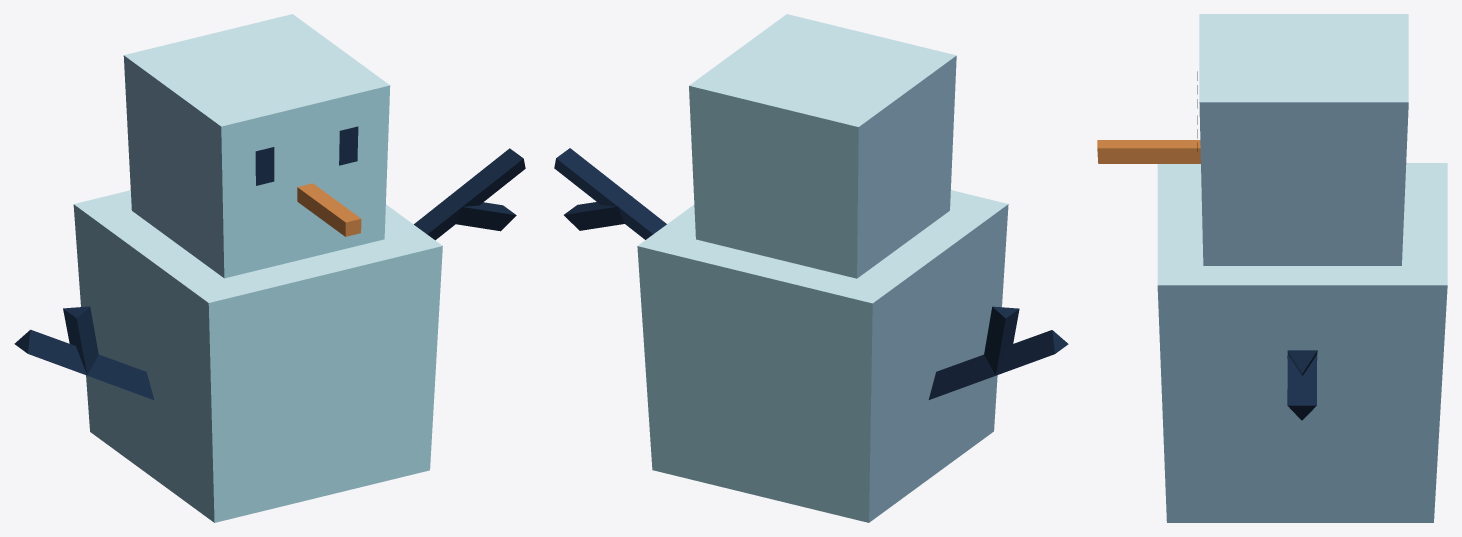
The model's file is snowman.fbx.
3 renders of one model, left to right at view 1: azimuth 30°, elevation 25°; view 2: azimuth 150°, elevation 25°; view 3: azimuth 270°, elevation 25°, orthographic. The views are drawn at different scales.
Visible parts, largest first — view 1: body, head, Larm, Rarm, Lfinger (×2), nose, Reye, Leye; view 2: body, head, Larm, Rarm, Lfinger (×2); view 3: body, head, nose, Lfinger, Larm.
Boxes of the visible parts, <box> form: body: <box>73,190,442,522</box>; head: <box>123,14,390,278</box>; Larm: <box>414,148,525,240</box>; Rarm: <box>14,329,154,399</box>; Lfinger (×2): <box>63,196,516,374</box>; nose: <box>297,183,361,236</box>; Reye: <box>255,147,274,185</box>; Leye: <box>339,126,358,165</box>; body: <box>637,190,1008,522</box>; head: <box>689,14,956,278</box>; Larm: <box>554,148,666,239</box>; Rarm: <box>928,330,1068,399</box>; Lfinger (×2): <box>564,196,1019,374</box>; body: <box>1157,163,1447,522</box>; head: <box>1199,14,1408,265</box>; nose: <box>1097,140,1200,163</box>; Lfinger: <box>1287,354,1317,420</box>; Larm: <box>1287,350,1317,376</box>.
Bounding box in the file's own units: 109 × 78.22 × 60.93.
Materials: 1 (1 with a texture image).
